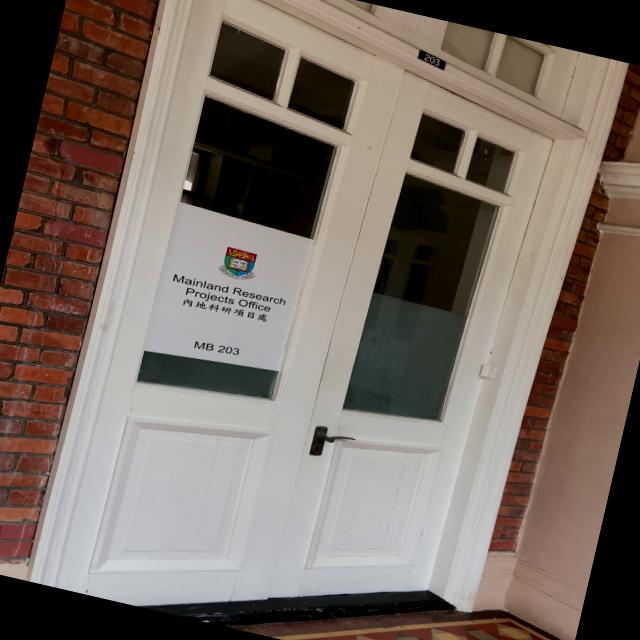room203: (407, 45, 452, 74)
room203Window: (184, 330, 246, 364)
